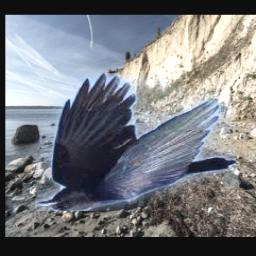Crow: (36, 74, 237, 212)
